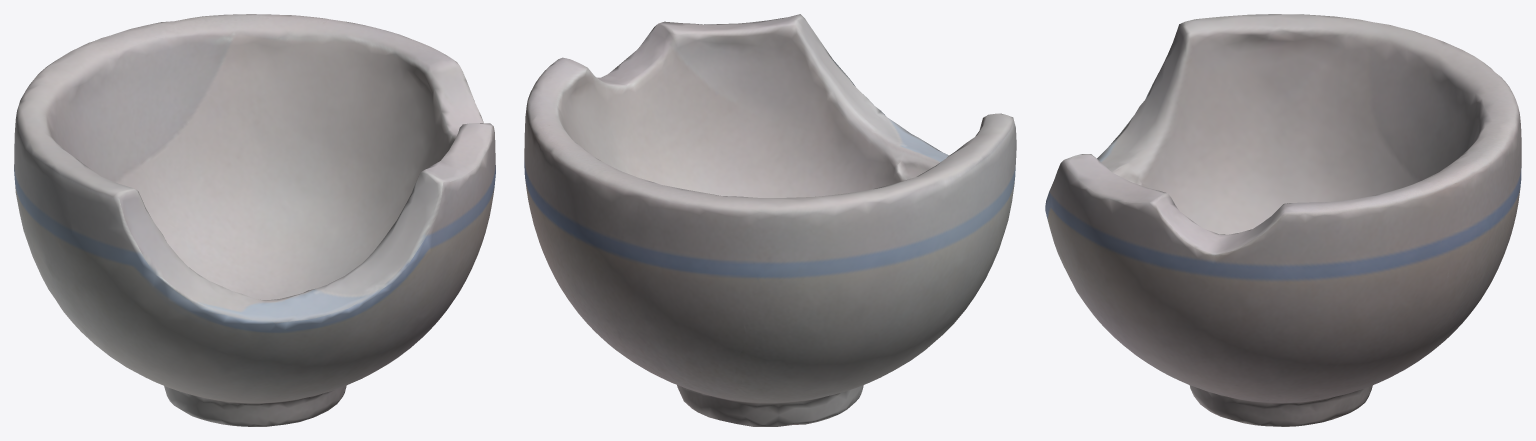
The model's file is DDP_유물_백자.glb.
3 renders of one model, left to right at view 1: azimuth 30°, elevation 25°; view 2: azimuth 150°, elevation 25°; view 3: azimuth 270°, elevation 25°, orthographic. The views are drawn at different scales.
Parts seen in each view (by area): view 1: texture_mapping; view 2: texture_mapping; view 3: texture_mapping.
Part boxes in pixels (x1=…): texture_mapping: x1=14, y1=14, x2=495, y2=426; texture_mapping: x1=524, y1=14, x2=1016, y2=426; texture_mapping: x1=1045, y1=14, x2=1521, y2=426.
Bounding box in the file's own units: 1 × 0.6425 × 0.9922.
1 material, 1 textured.
